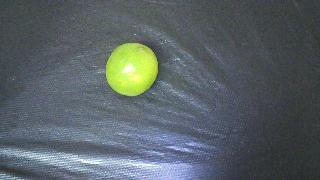LOCAL: (106, 43, 158, 96)
